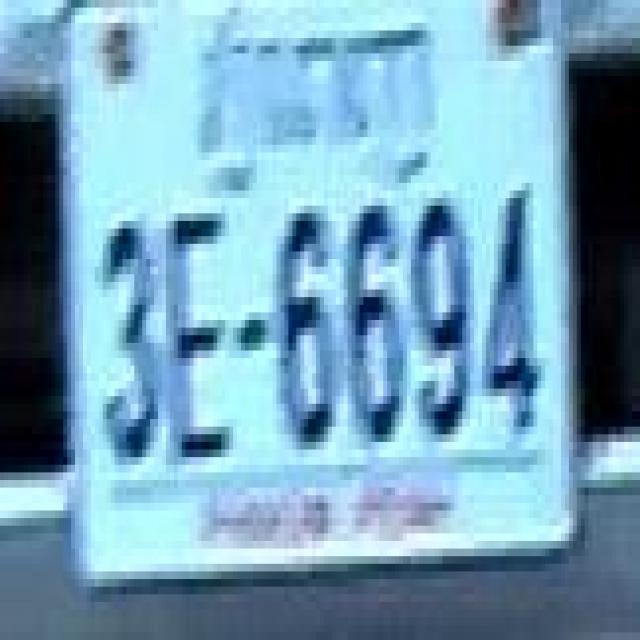Phnom_Penh: (201, 30, 440, 196)
